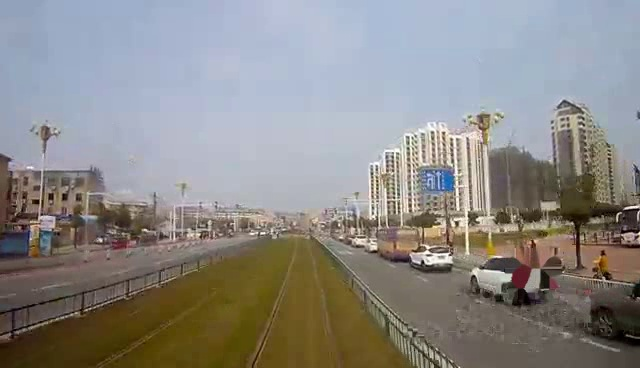bus: (376, 225, 425, 262)
car: (466, 253, 559, 299), (407, 242, 460, 274)
motorcycle: (591, 250, 619, 288)
